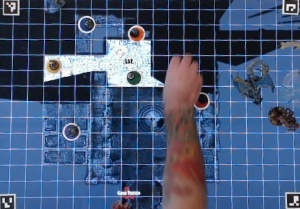blue: (75, 13, 98, 35)
green: (122, 69, 141, 84)
orange: (125, 22, 147, 45)
red: (192, 89, 210, 110)
violet: (60, 121, 81, 142)
yellow: (45, 56, 65, 72)
